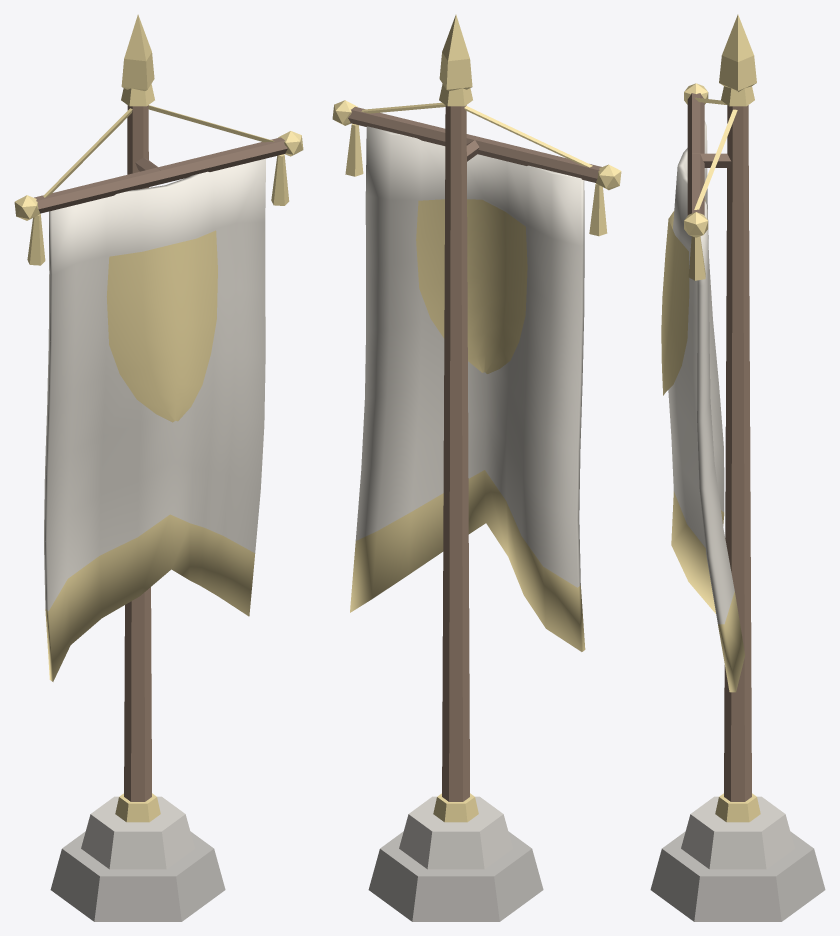
File: prop_gvg_banner.glb
3 renders of one model, left to right at view 1: azimuth 30°, elevation 25°; view 2: azimuth 150°, elevation 25°; view 3: azimuth 270°, elevation 25°, orthographic.
Parts seen in each view (by area): view 1: prop_gvg_banner; view 2: prop_gvg_banner; view 3: prop_gvg_banner.
Boxes of the visible parts, x1=… form: prop_gvg_banner: x1=14, y1=14, x2=303, y2=921; prop_gvg_banner: x1=332, y1=14, x2=621, y2=921; prop_gvg_banner: x1=650, y1=14, x2=825, y2=921.
Bounding box in the file's own units: 1.73 × 5.08 × 0.92.
